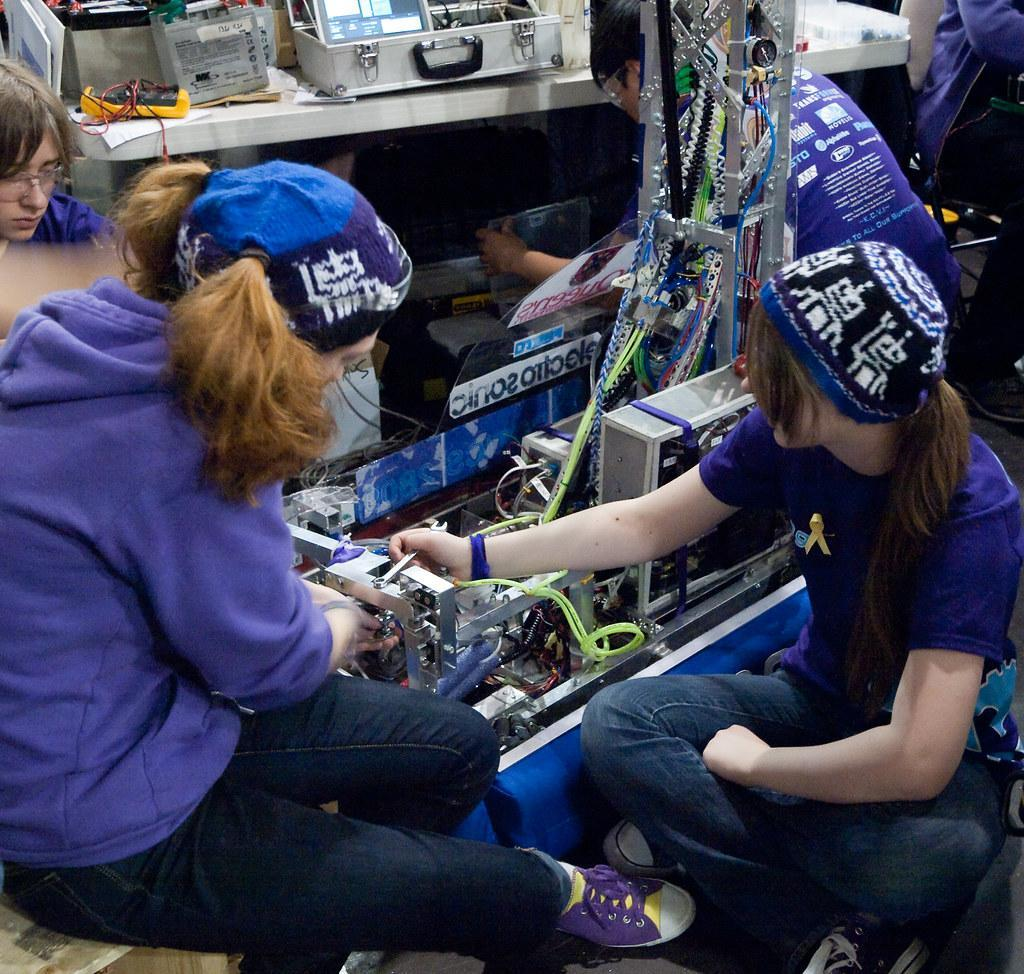robot: (214, 0, 968, 888)
